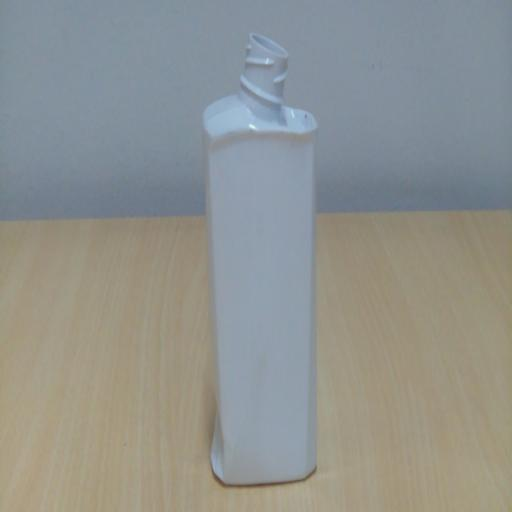Bad: (191, 22, 332, 501)
